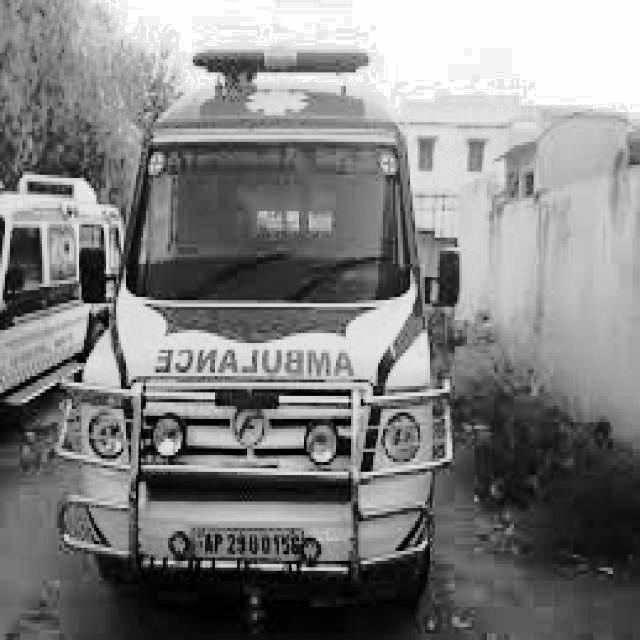LCV: (85, 47, 463, 589)
